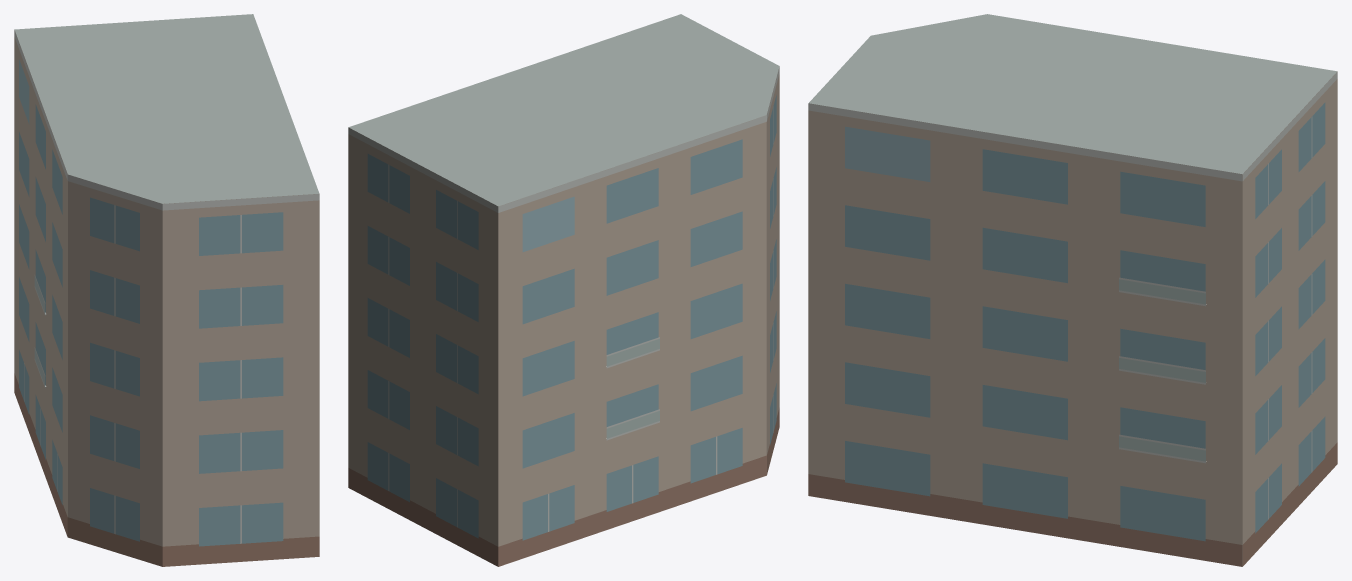
The model's file is survey-upis-32868954.glb.
The picture shows the model from 3 angles, left to right: view 1: azimuth 30°, elevation 25°; view 2: azimuth 150°, elevation 25°; view 3: azimuth 270°, elevation 25°; orthographic projection. The views are drawn at different scales.
Parts seen in each view (by area): view 1: survey-upis-32868954.tmp; view 2: survey-upis-32868954.tmp; view 3: survey-upis-32868954.tmp.
Part boxes in pixels (x1=…): survey-upis-32868954.tmp: x1=14, y1=14, x2=319, y2=566; survey-upis-32868954.tmp: x1=348, y1=14, x2=779, y2=566; survey-upis-32868954.tmp: x1=808, y1=14, x2=1337, y2=566.
Bounding box in the file's own units: 11.6 × 13.25 × 16.19.
